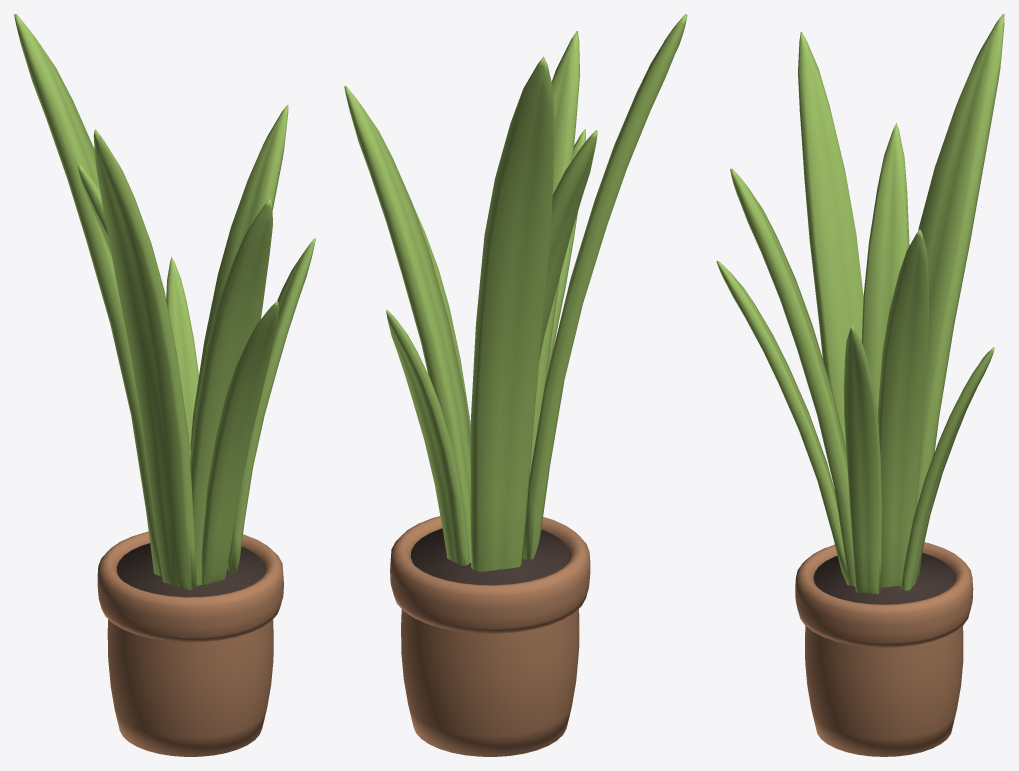
File: Pflanze_groß.fbx
3 renders of one model, left to right at view 1: azimuth 30°, elevation 25°; view 2: azimuth 150°, elevation 25°; view 3: azimuth 270°, elevation 25°, orthographic. The views are drawn at different scales.
Visible parts, largest first — view 1: Pflanze_groß; view 2: Pflanze_groß; view 3: Pflanze_groß.
Part boxes in pixels (bbox=[...]): Pflanze_groß: bbox=[14, 14, 315, 756]; Pflanze_groß: bbox=[344, 14, 687, 756]; Pflanze_groß: bbox=[716, 14, 1004, 756].
Bounding box in the file's own units: 542 × 1400 × 552.
